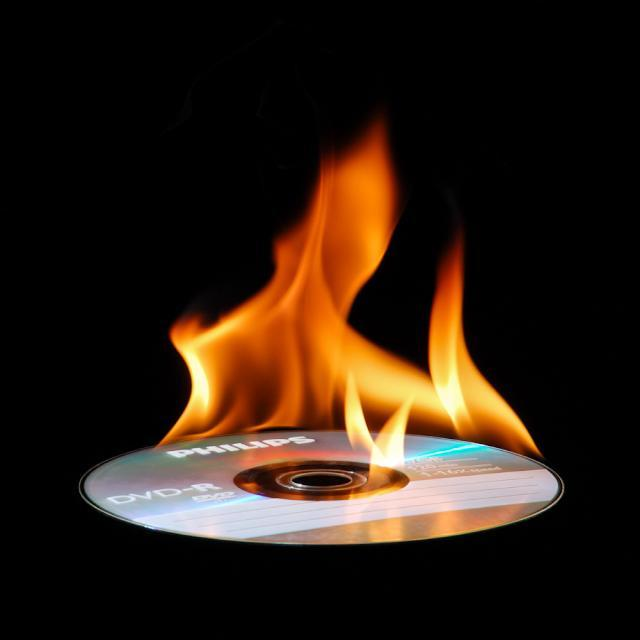Fire: (181, 329, 483, 425), (277, 156, 400, 312)
